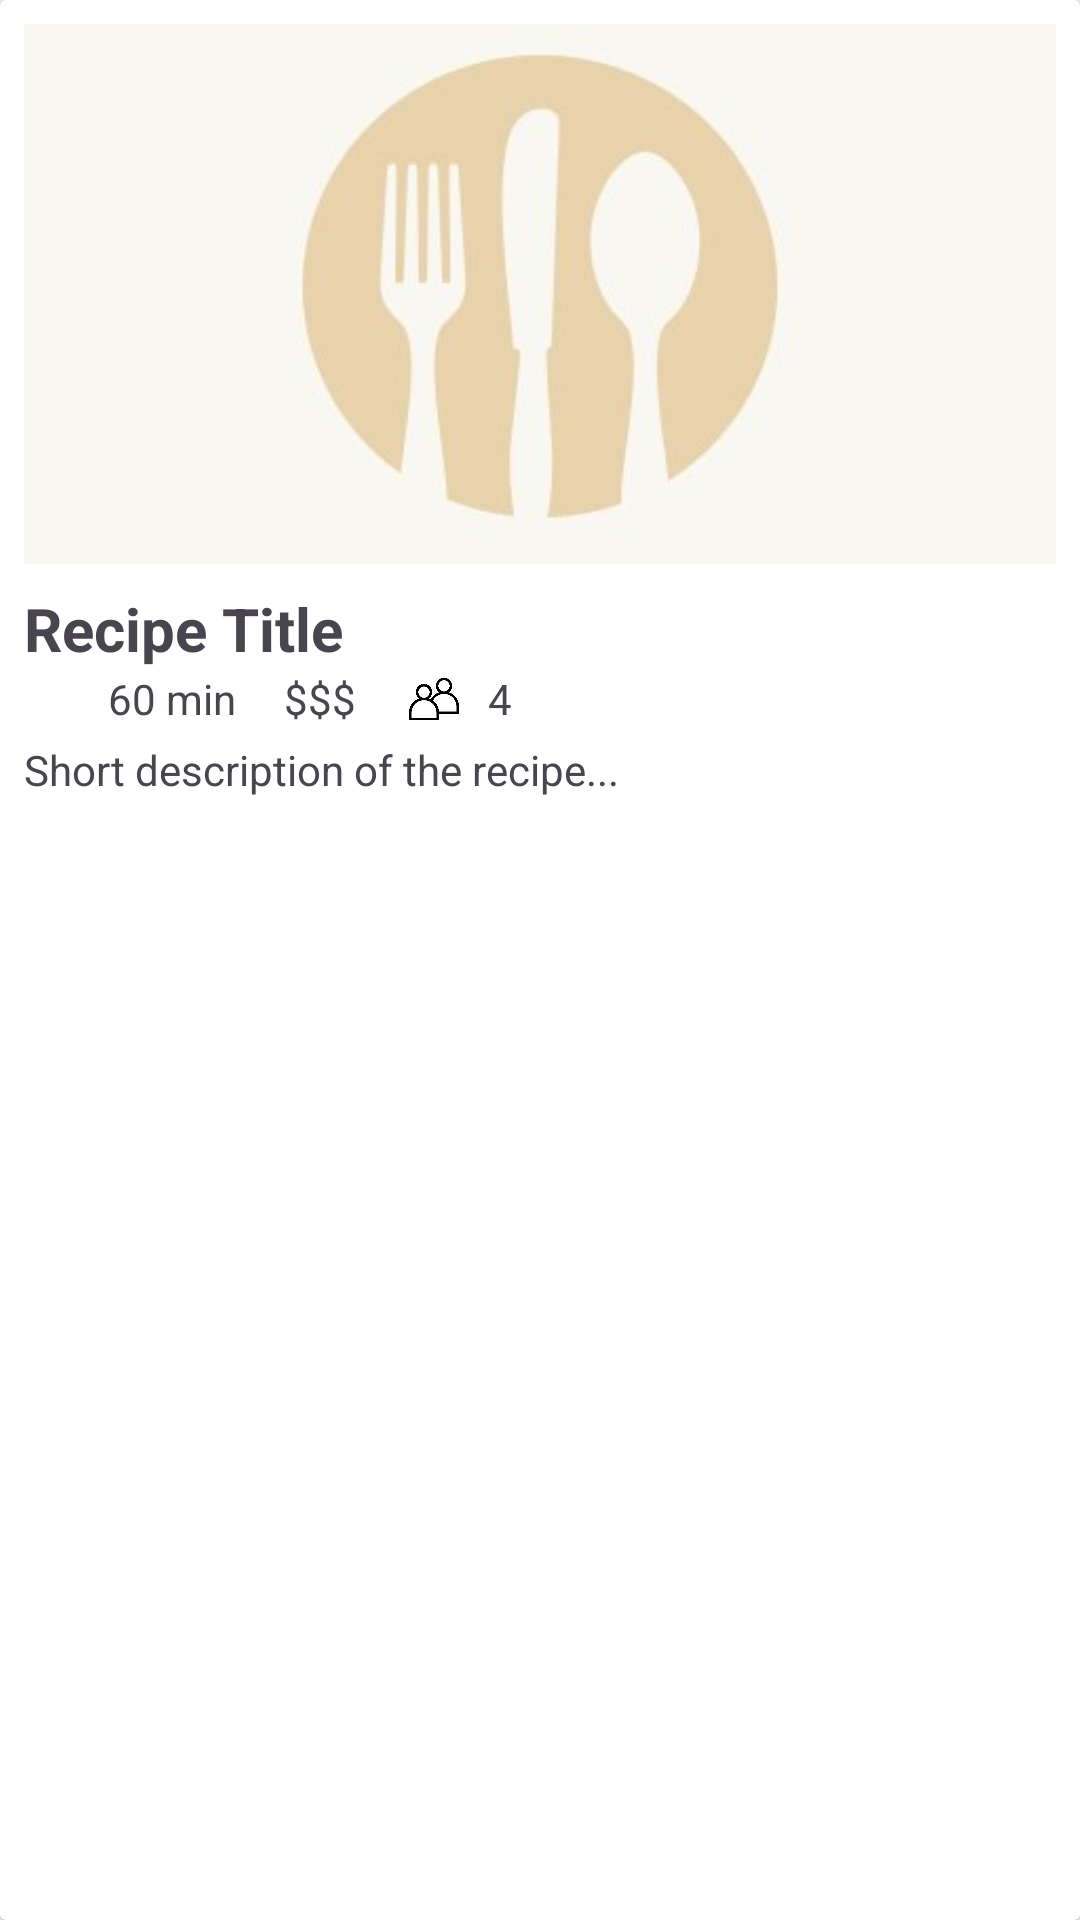

Icons on this 1080×1920 Android screen, each with the point to tap as (x=x, y=y):
people: (x=434, y=699)
